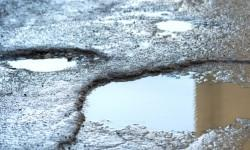Pothole: (81, 56, 249, 135), (0, 33, 102, 71), (142, 16, 201, 38)
